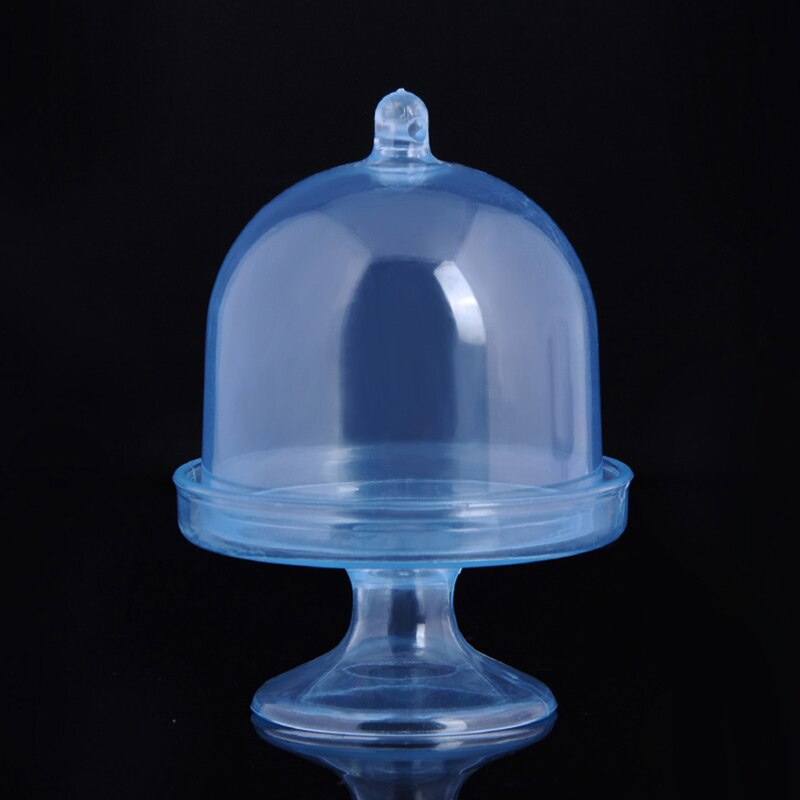Chaise: (86, 86, 366, 386)
